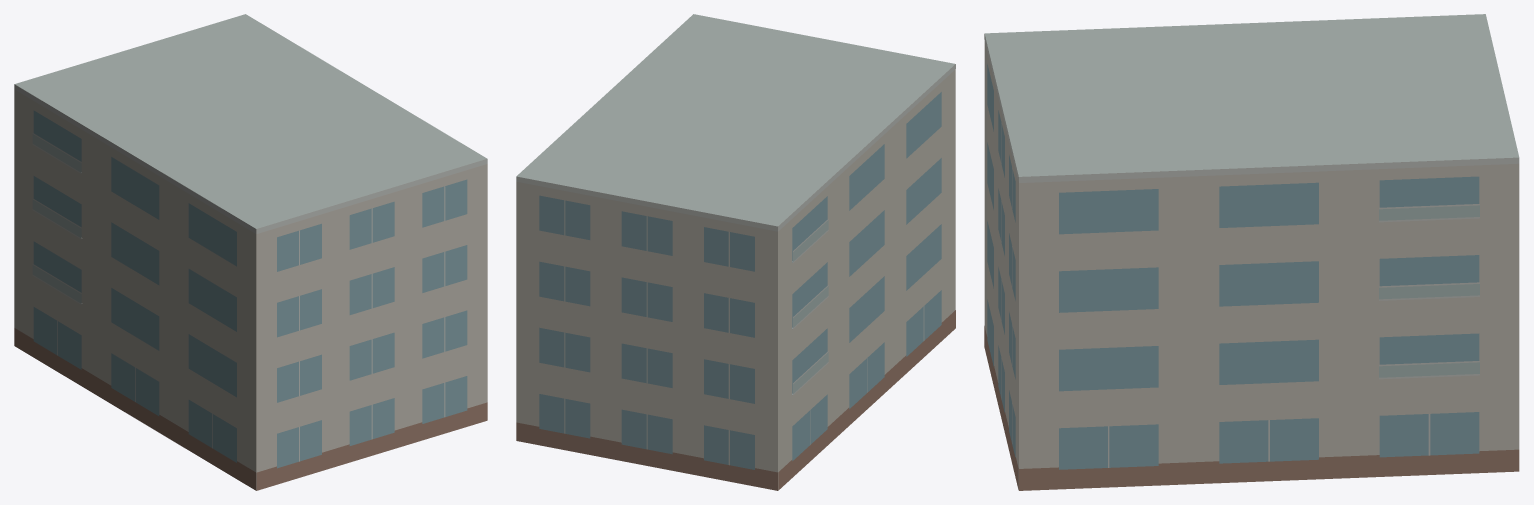
The model's file is survey-upis-33004235.glb.
3 views of the same model, side by side, from view 1: azimuth 30°, elevation 25°; view 2: azimuth 150°, elevation 25°; view 3: azimuth 270°, elevation 25° (orthographic). The views are drawn at different scales.
Visible parts, largest first — view 1: survey-upis-33004235.tmp; view 2: survey-upis-33004235.tmp; view 3: survey-upis-33004235.tmp.
Boxes of the visible parts, box(x1,y1,x2,y2) form: survey-upis-33004235.tmp: box(14, 14, 487, 490); survey-upis-33004235.tmp: box(516, 14, 955, 490); survey-upis-33004235.tmp: box(984, 14, 1519, 490).
Size of the model in its own units: 13.81 by 12.4 by 19.15.
